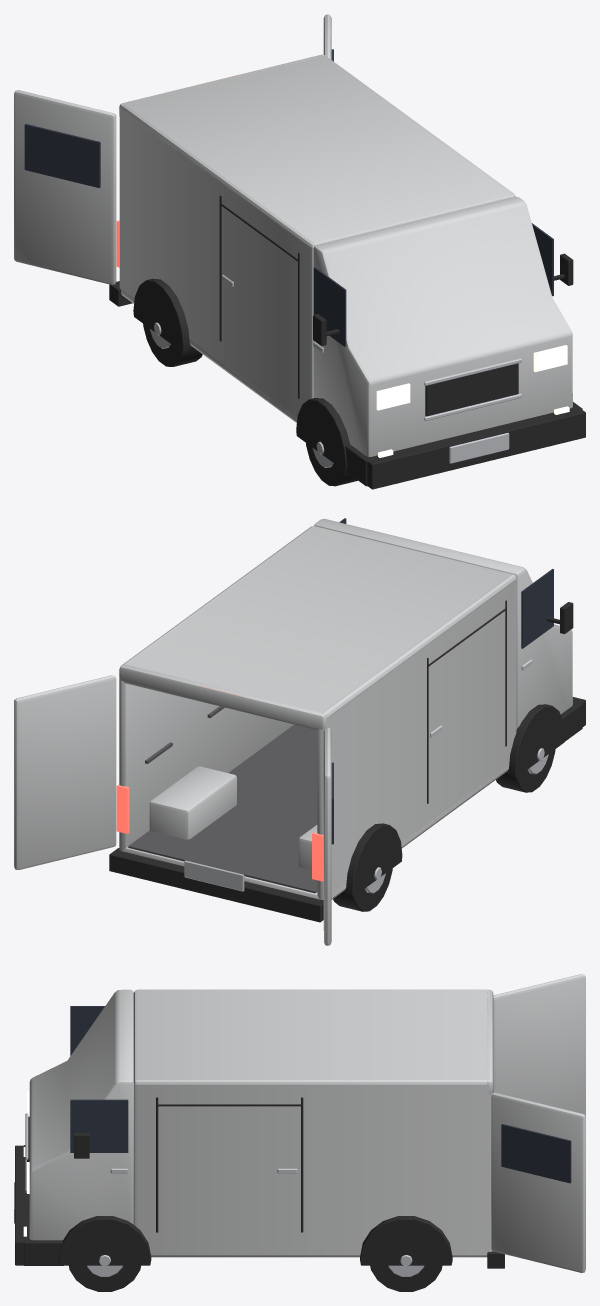
Rendered from getaway-van.glb.
3 views of the same model, one above another, from view 1: azimuth 30°, elevation 25°; view 2: azimuth 150°, elevation 25°; view 3: azimuth 270°, elevation 25° (orthographic). The views are drawn at different scales.
Visible parts, largest first — view 1: Van_Body, Van_Rubber, Van_Glass, Van_Chrome, Van_HeadLights; view 2: Van_Body, Van_Interior, Van_Rubber, Van_Glass, Van_Chrome, Van_TailLights; view 3: Van_Body, Van_Rubber, Van_Glass, Van_Chrome.
Boxes of the visible parts, x1,y1,x2,y2 form: Van_Body: [14, 14, 572, 456]; Van_Rubber: [109, 195, 585, 489]; Van_Glass: [24, 49, 553, 346]; Van_Chrome: [150, 274, 521, 467]; Van_HeadLights: [376, 345, 569, 457]; Van_Body: [14, 518, 572, 945]; Van_Interior: [128, 706, 317, 893]; Van_Rubber: [109, 600, 585, 922]; Van_Glass: [331, 518, 553, 844]; Van_Chrome: [184, 659, 548, 893]; Van_TailLights: [116, 686, 323, 881]; Van_Body: [29, 974, 585, 1272]; Van_Rubber: [15, 1097, 504, 1291]; Van_Glass: [70, 1006, 571, 1183]; Van_Chrome: [14, 1113, 424, 1276].
Bounding box in the file's own units: 11.67 × 7.98 × 19.74.
